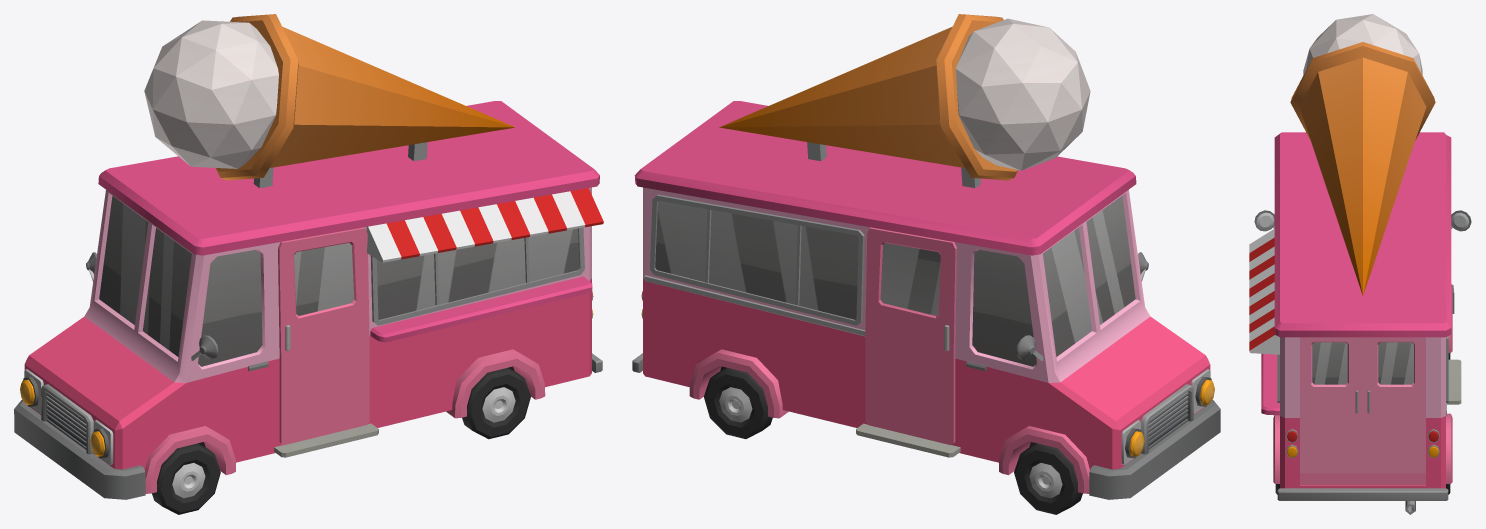
The model's file is IceTruck_2_E.gltf.
3 views of the same model, side by side, from view 1: azimuth 30°, elevation 25°; view 2: azimuth 150°, elevation 25°; view 3: azimuth 270°, elevation 25° (orthographic). The views are drawn at different scales.
Parts seen in each view (by area): view 1: IceTruck_2_E, RL, FL; view 2: IceTruck_2_E, FR, RR; view 3: IceTruck_2_E.
Boxes of the visible parts, box(x1,y1,x2,y2) form: IceTruck_2_E: box(14, 14, 603, 499); RL: box(462, 367, 530, 439); FL: box(152, 443, 220, 514); IceTruck_2_E: box(632, 14, 1220, 499); FR: box(1014, 443, 1082, 514); RR: box(704, 368, 772, 438); IceTruck_2_E: box(1249, 14, 1471, 514).
Size of the model in its own units: 4.16 by 3.43 by 1.84.
4 materials, 4 textured.
